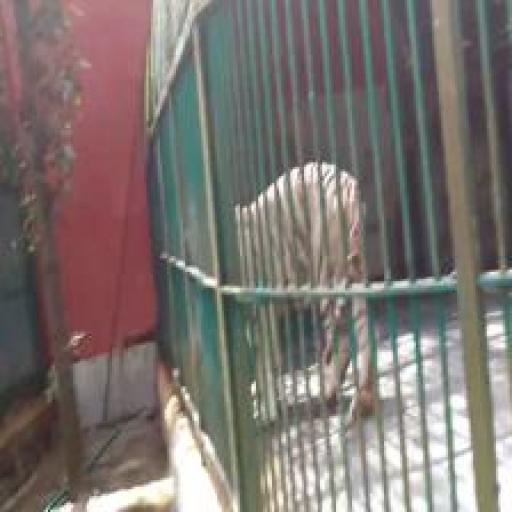Tiger: (231, 156, 380, 428)
